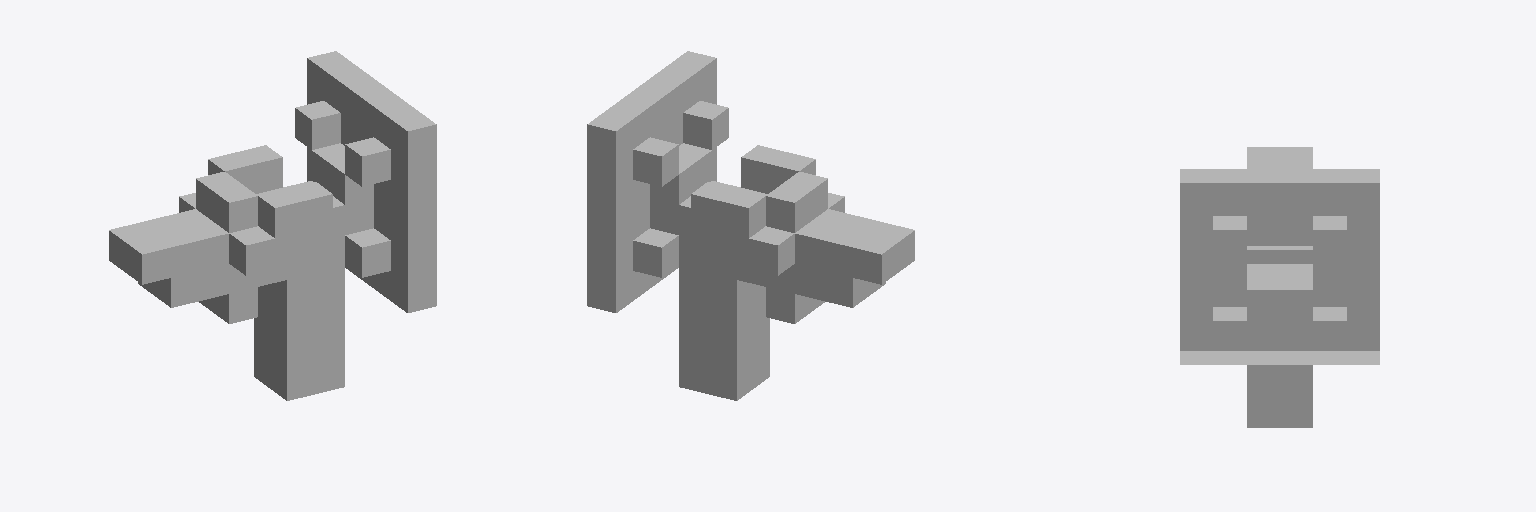
File: customize.obj
3 views of the same model, side by side, from view 1: azimuth 30°, elevation 25°; view 2: azimuth 150°, elevation 25°; view 3: azimuth 270°, elevation 25° (orthographic).
Visible parts, largest first — view 1: customize; view 2: customize; view 3: customize.
Boxes of the visible parts, x1=… form: customize: x1=109, y1=51, x2=436, y2=400; customize: x1=587, y1=51, x2=914, y2=400; customize: x1=1180, y1=147, x2=1379, y2=427.
Size of the model in its own units: 9 by 9 by 6.